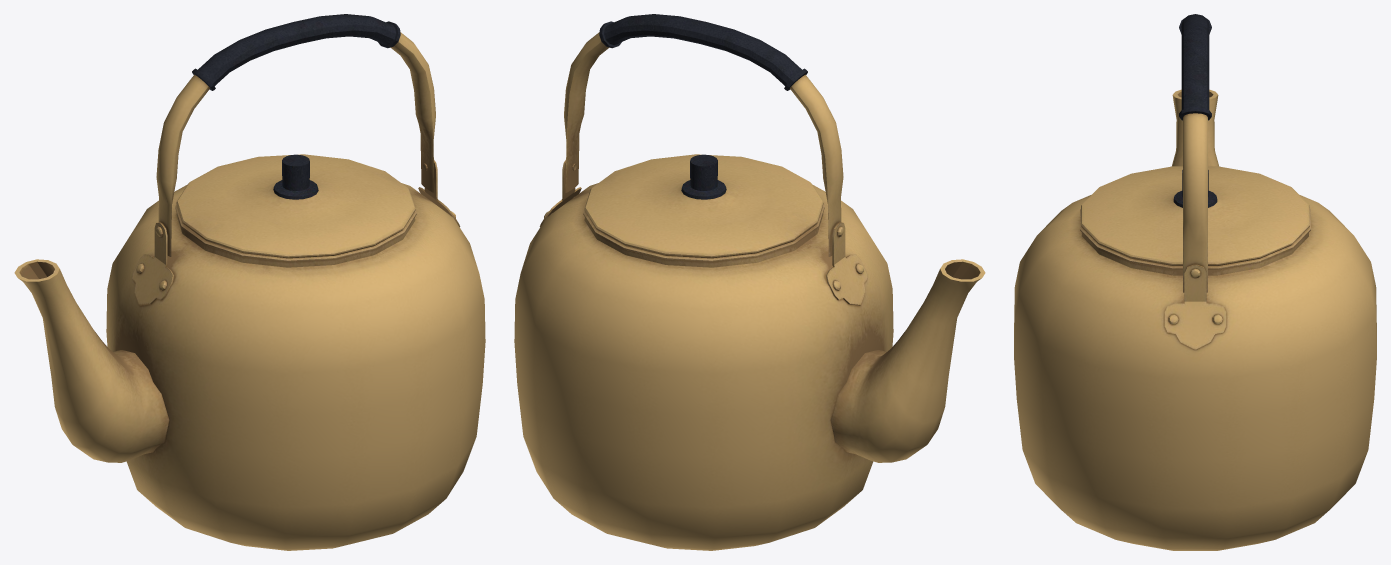
Rendered from teapot.glb.
3 renders of one model, left to right at view 1: azimuth 30°, elevation 25°; view 2: azimuth 150°, elevation 25°; view 3: azimuth 270°, elevation 25°, orthographic. The views are drawn at different scales.
Visible parts, largest first — view 1: Line001; view 2: Line001; view 3: Line001.
Boxes of the visible parts, x1,y1,x2,y2 form: Line001: [14, 14, 485, 550]; Line001: [514, 14, 985, 550]; Line001: [1014, 14, 1376, 550].
Bounding box in the file's own units: 119 × 126 × 87.6.
Materials: 1 (1 with a texture image).
